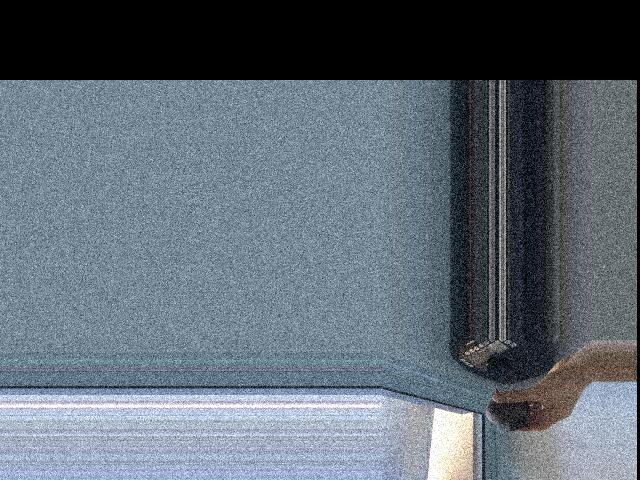beet: (485, 387, 534, 430)
